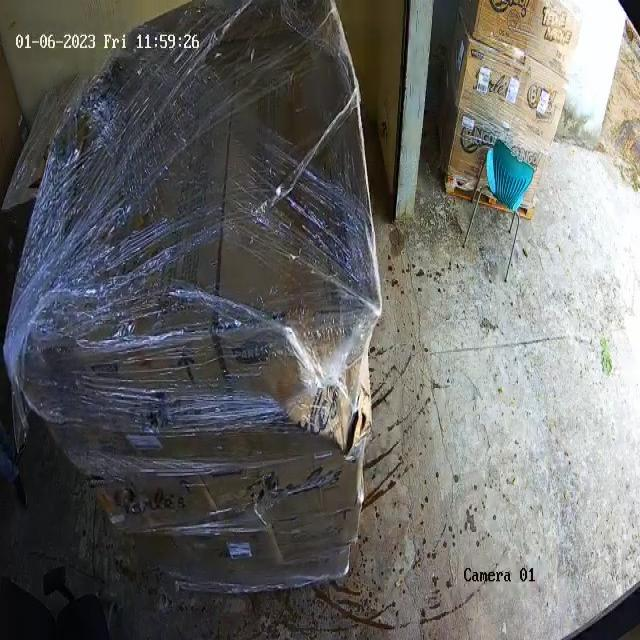leakage: (344, 414, 373, 472)
squeeze: (297, 307, 376, 406)
